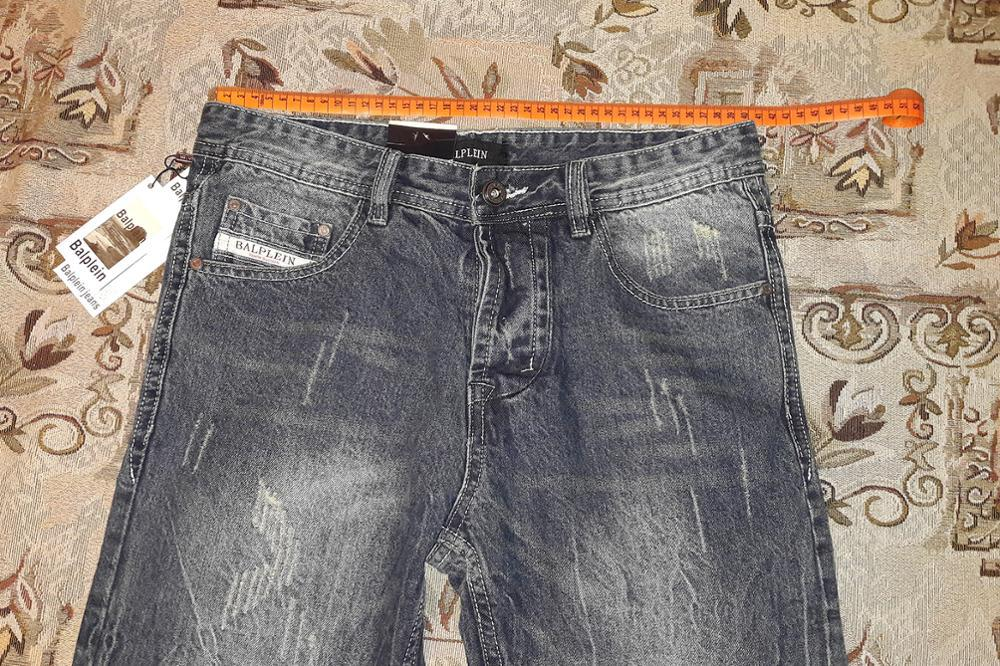jeans: (113, 101, 795, 666)
